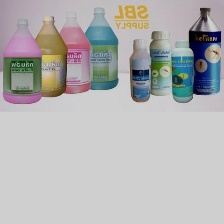insecticide: (0, 16, 45, 107), (77, 5, 121, 92), (52, 10, 93, 98), (186, 6, 223, 98), (30, 14, 69, 100), (146, 27, 176, 96), (126, 37, 153, 104), (172, 38, 197, 105)
